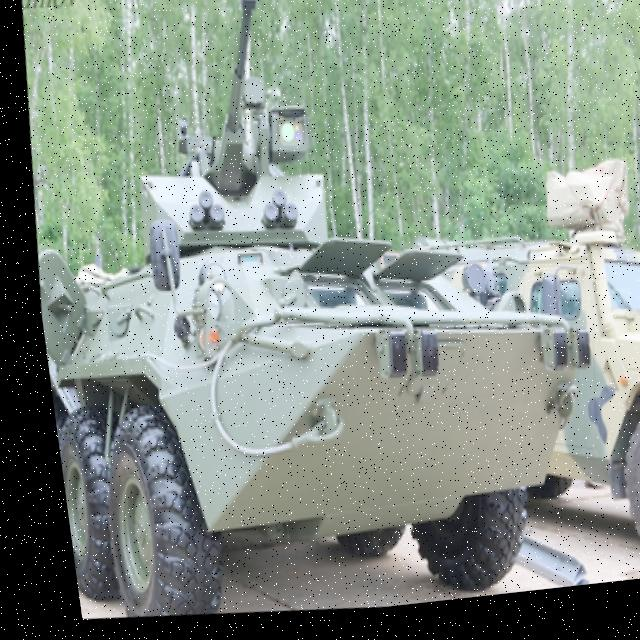MIL_APC: (23, 171, 599, 640)
